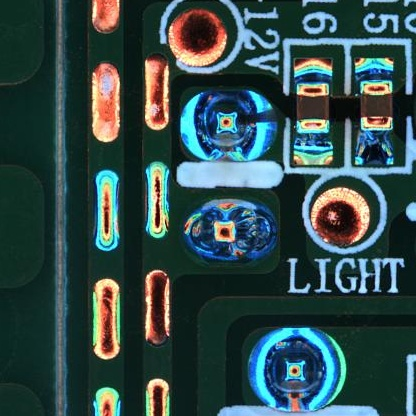spot: (246, 326, 347, 411), (178, 88, 278, 161), (182, 199, 277, 262), (312, 186, 370, 247), (168, 10, 227, 66)
